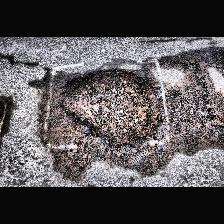pothole: (57, 66, 165, 146)
